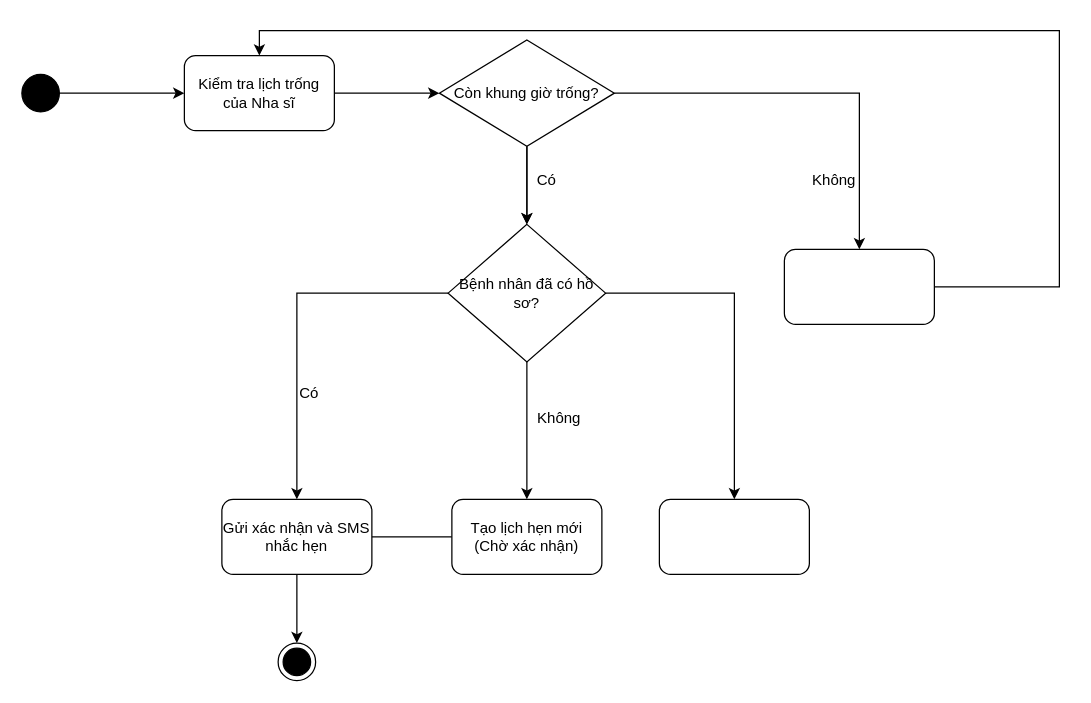
Some shapes in this 1091 by 703 pixel diagram are drawn without their labels. Here are the shapes that lost their labels. From the top down, the centre of each, then its label:
[858,286]: Đề xuất khung giờ khác
[733,536]: Đăng ký hồ sơ bệnh nhân
